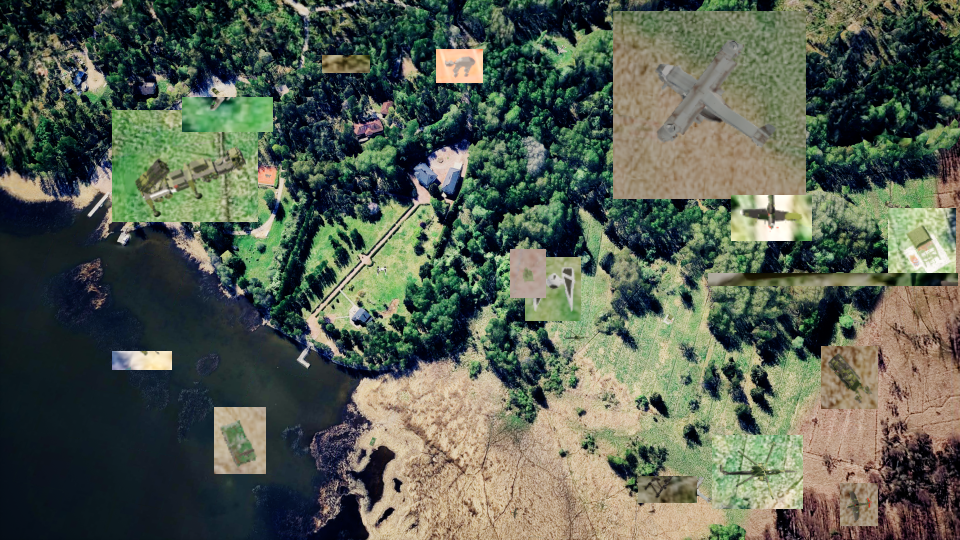condor: (613, 11, 806, 199)
hangar: (708, 273, 958, 286)
helicopter: (712, 435, 803, 509)
jammer: (214, 407, 266, 474)
jet_plane: (182, 97, 273, 132)
large_launcher: (112, 110, 258, 222)
large_tower: (638, 476, 697, 503)
medium_launcher: (322, 55, 370, 73)
medium_plane: (731, 195, 812, 241)
mine_roller: (821, 346, 878, 409)
small_launcher: (510, 249, 546, 298)
small_plane: (840, 483, 878, 526)
small_tower: (888, 208, 956, 283)
spacecraft: (525, 257, 581, 321)
ta-ta: (436, 49, 483, 83)
tank: (112, 351, 172, 370)
